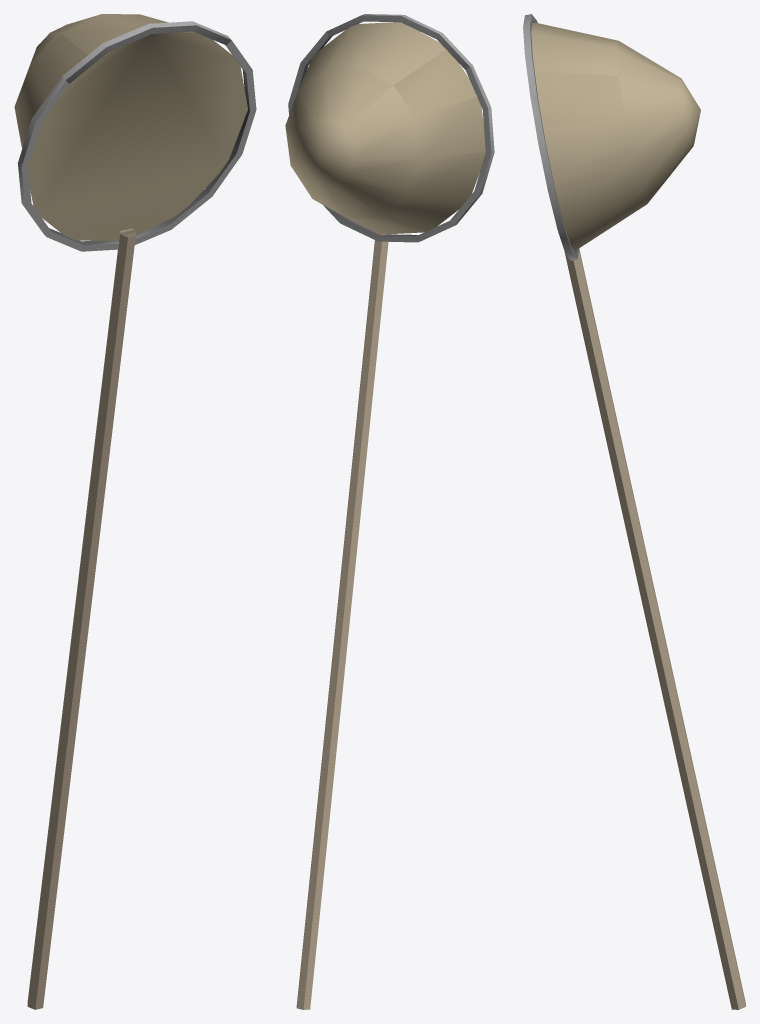
File: landing_net.glb
3 views of the same model, side by side, from view 1: azimuth 30°, elevation 25°; view 2: azimuth 150°, elevation 25°; view 3: azimuth 270°, elevation 25° (orthographic). The views are drawn at different scales.
Parts seen in each view (by area): view 1: static; view 2: static; view 3: static.
Boxes of the visible parts, x1,y1,x2,y2 form: static: [14, 14, 256, 1009]; static: [285, 14, 494, 1009]; static: [523, 14, 745, 1009].
Bounding box in the file's own units: 0.36 × 1.56 × 0.3209.
